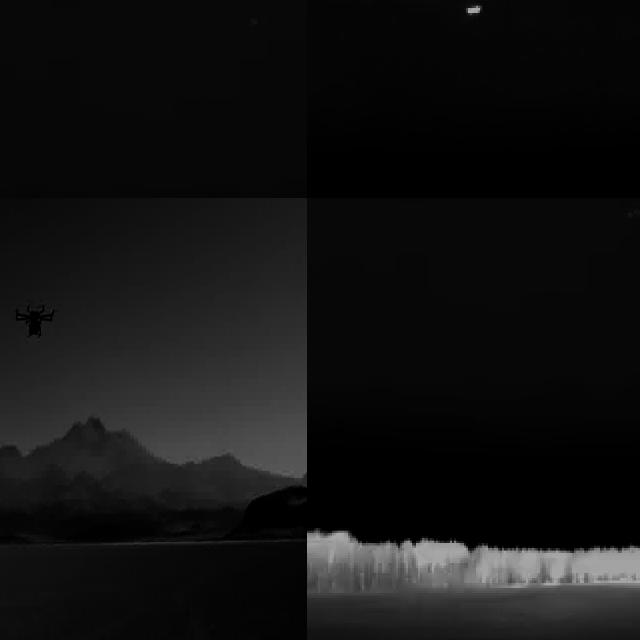0: (244, 13, 270, 40), (624, 201, 640, 229)
1: (456, 0, 492, 28)
drone: (14, 299, 58, 344)
